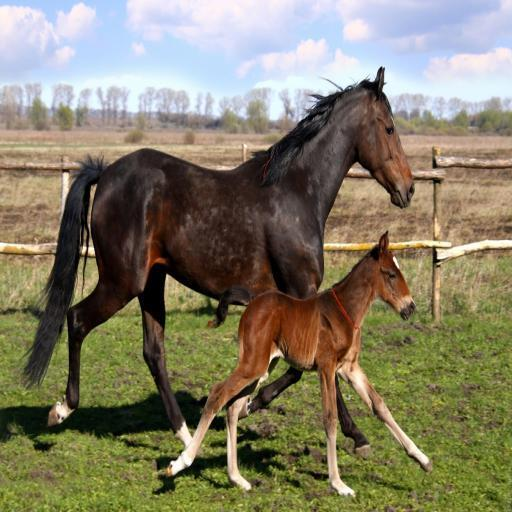horse: (18, 64, 416, 460), (166, 230, 434, 499)
